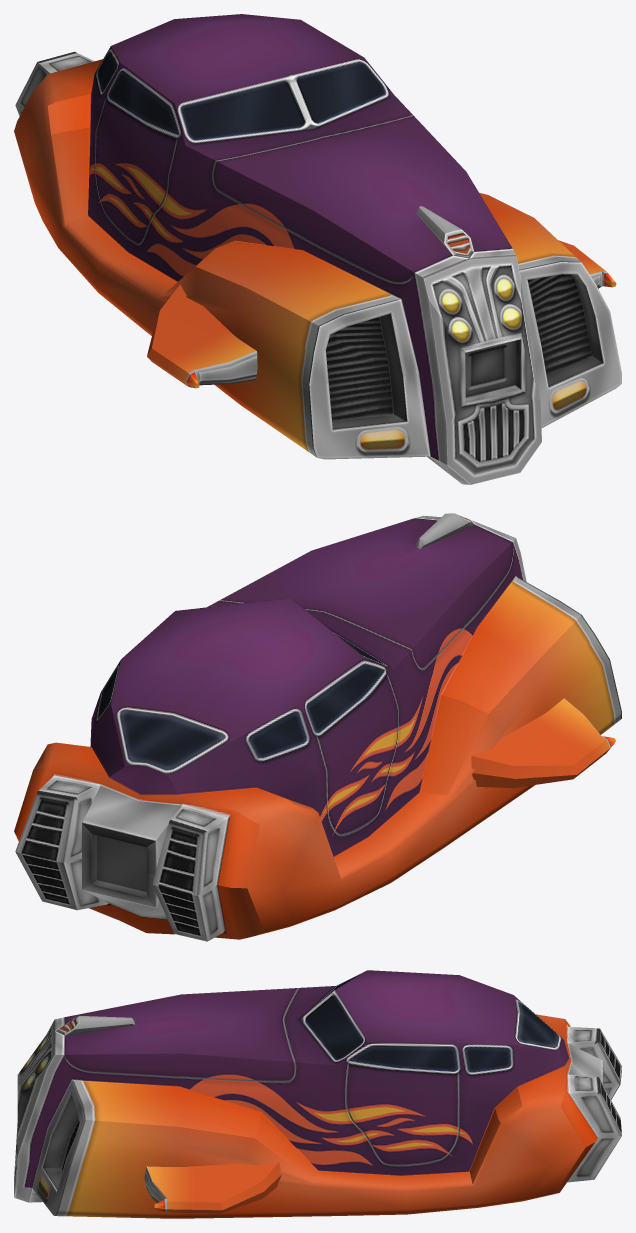
The model's file is JpPaquita_low.FBX.
3 views of the same model, one above another, from view 1: azimuth 30°, elevation 25°; view 2: azimuth 150°, elevation 25°; view 3: azimuth 270°, elevation 25° (orthographic). The views are drawn at different scales.
Visible parts, largest first — view 1: JpPaquita; view 2: JpPaquita; view 3: JpPaquita.
Part boxes in pixels (left/top/right/bottom): JpPaquita: left=14, top=14, right=621, bottom=484; JpPaquita: left=14, top=513, right=621, bottom=941; JpPaquita: left=14, top=970, right=621, bottom=1218.
Size of the model in its own units: 2.01 by 1.17 by 3.14.
